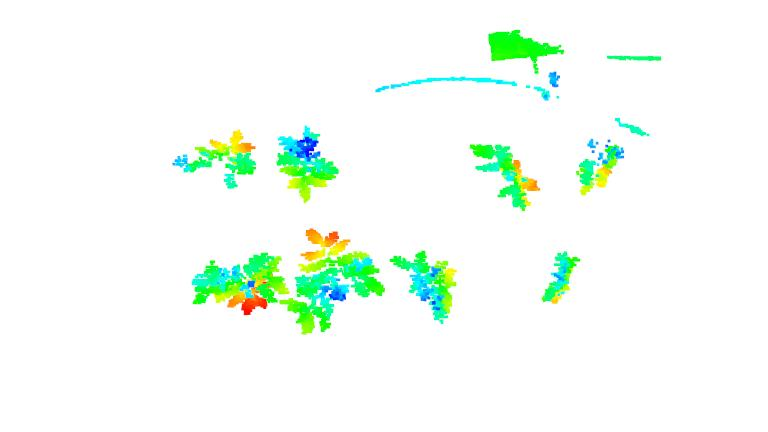chickpea: (289, 228, 387, 336), (190, 253, 289, 317), (467, 139, 541, 212), (172, 126, 257, 189), (273, 124, 338, 203), (390, 250, 457, 324), (576, 136, 625, 197), (539, 250, 581, 304)
